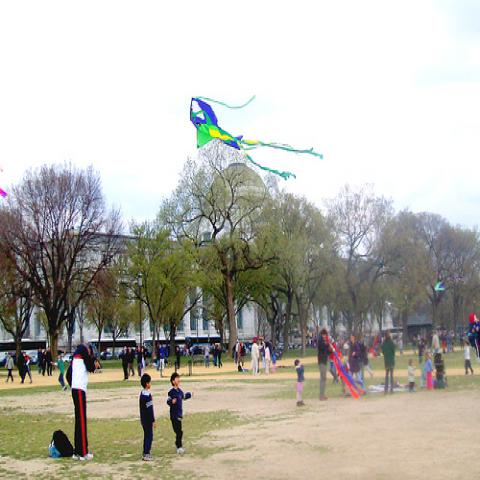car: (100, 351, 112, 361)
